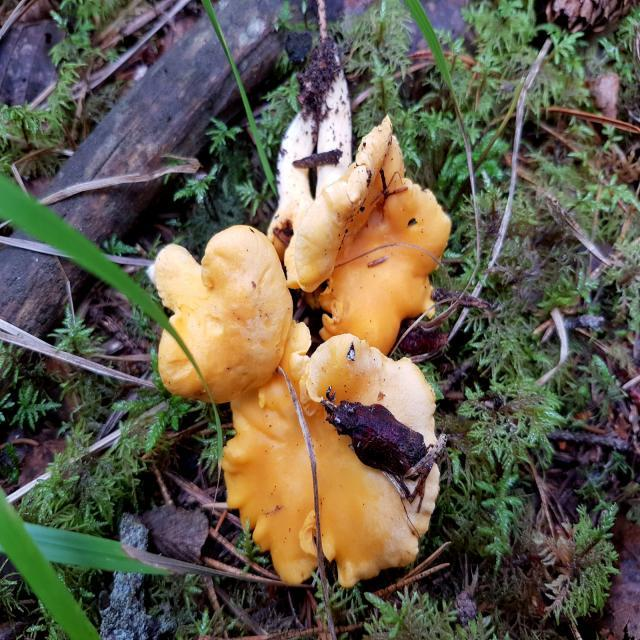Cantharellus cibarius: (225, 324, 442, 581), (273, 43, 452, 351), (154, 228, 290, 393)
